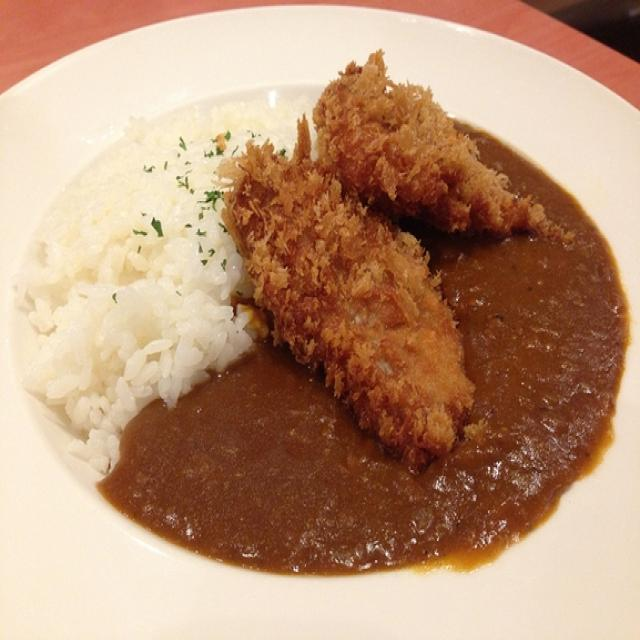牛肉菜式: (8, 15, 631, 631)
